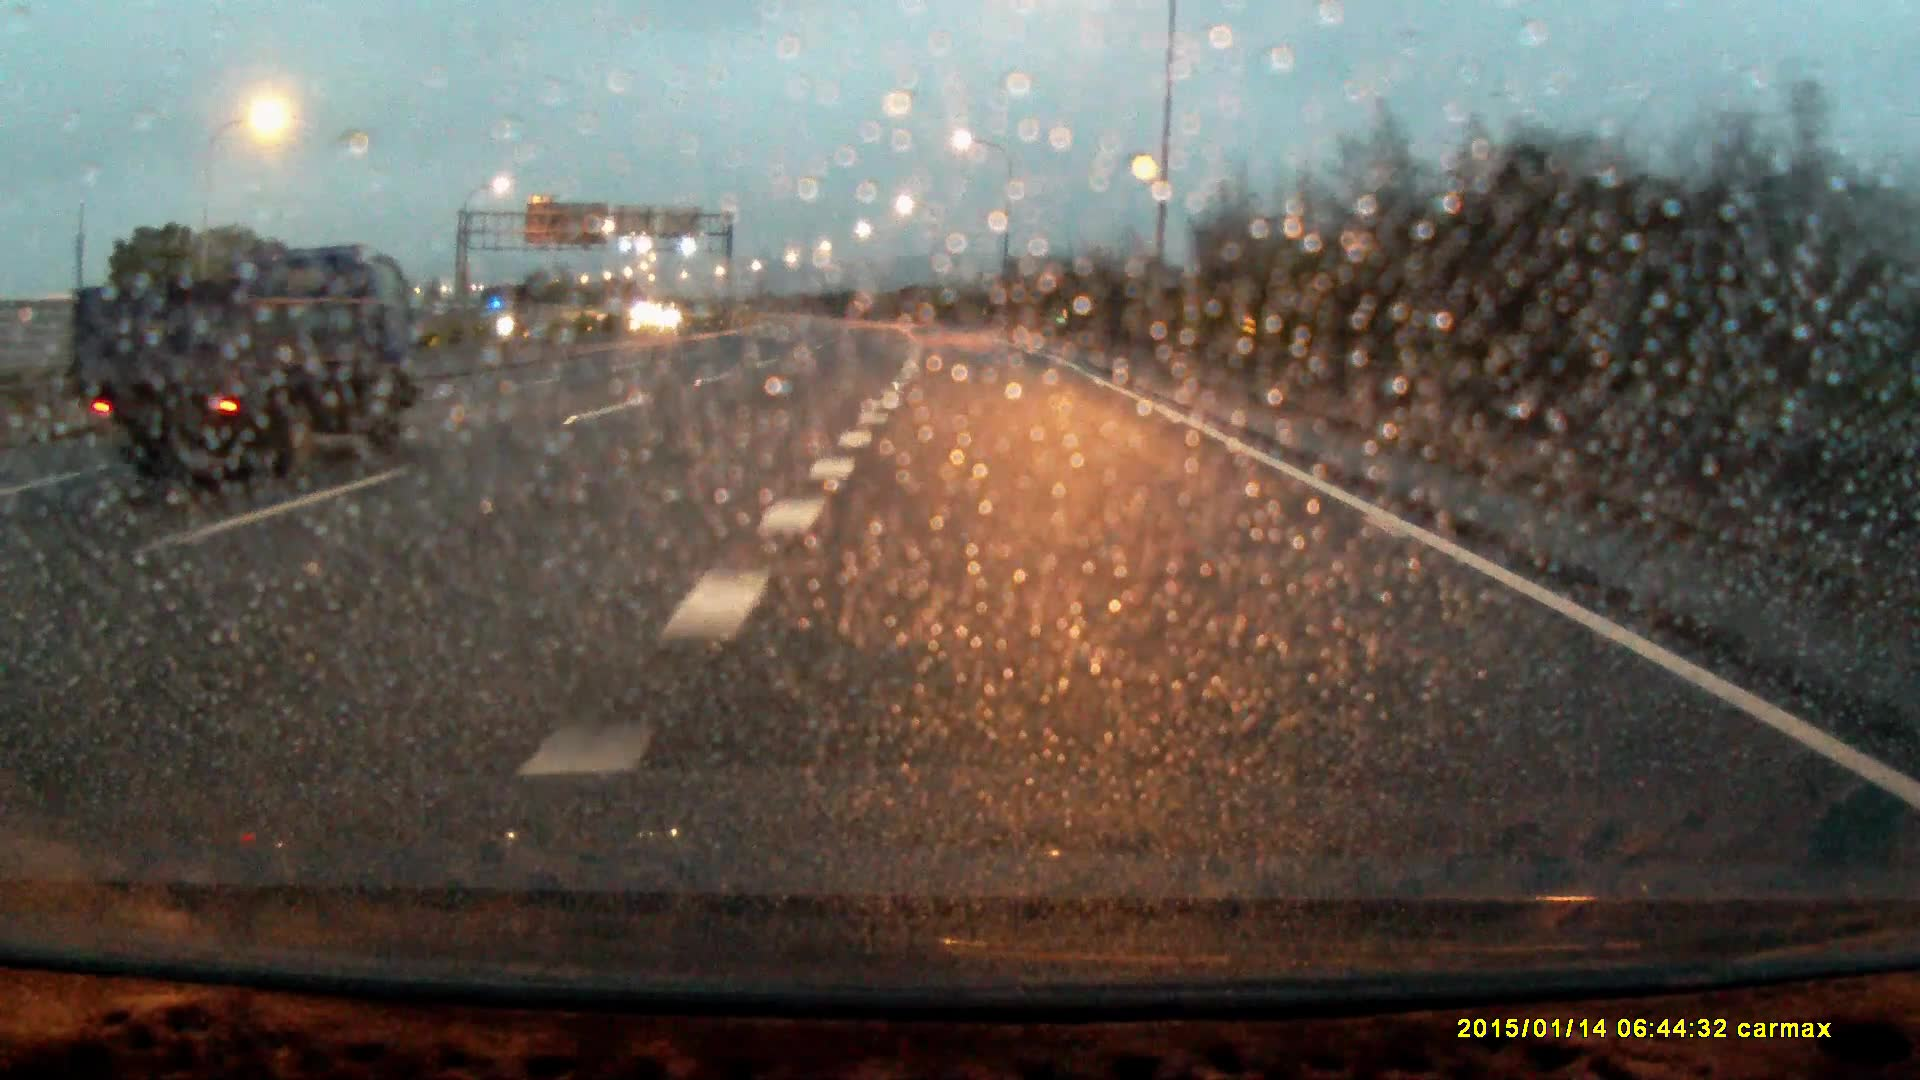vehicle: (82, 229, 407, 491)
